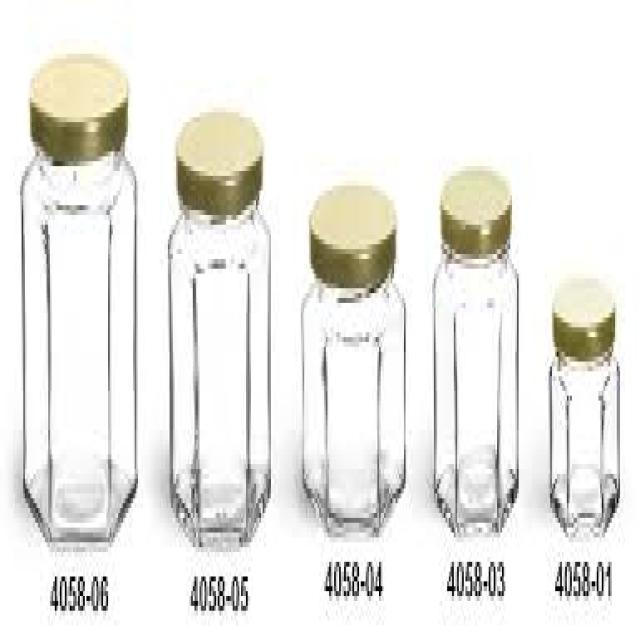glass: (20, 147, 135, 538), (168, 196, 269, 543), (299, 274, 404, 528), (432, 245, 517, 543), (547, 342, 618, 537)
metal: (27, 59, 126, 156), (308, 181, 393, 288), (175, 108, 261, 205), (439, 161, 509, 249), (551, 269, 614, 357)
